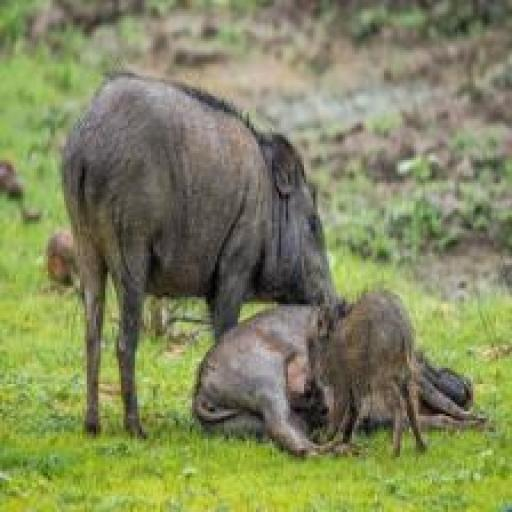Pig: (60, 62, 497, 466)
